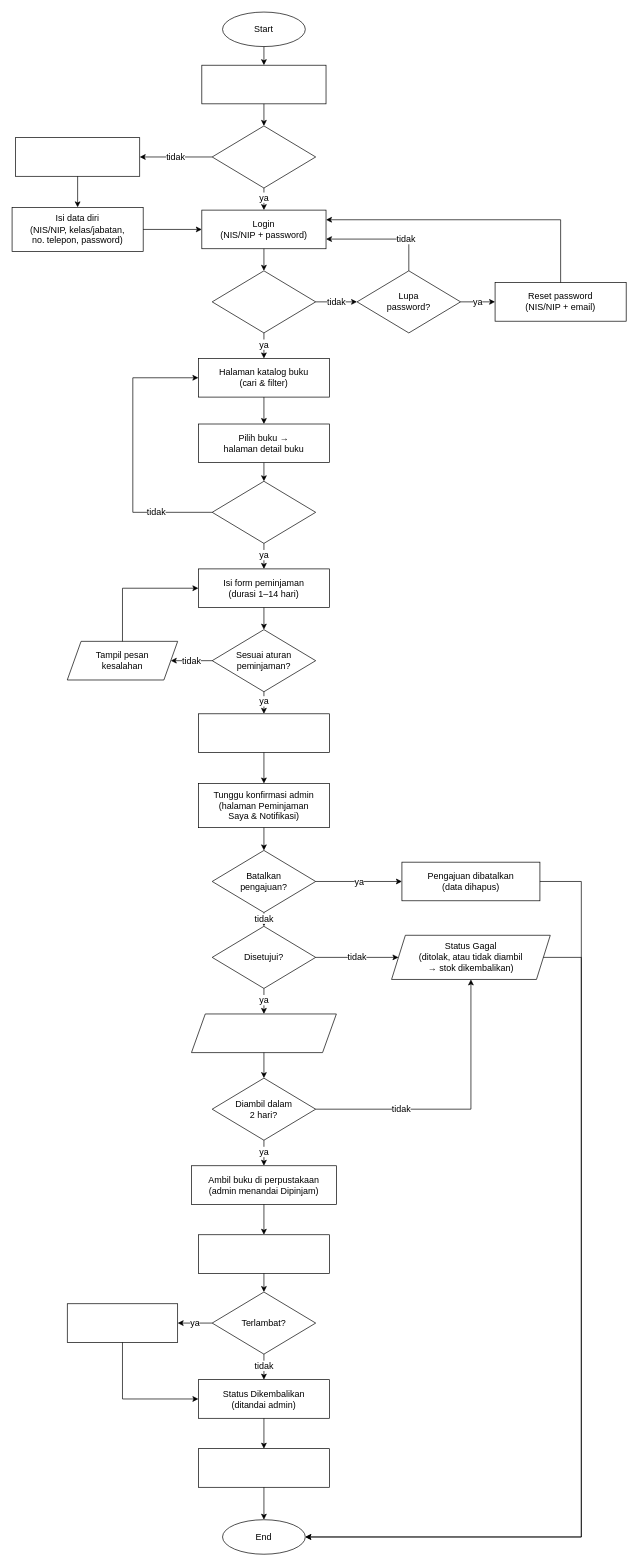
Some shapes in this 638 by 1566 pixel diagram are drawn without their labels. Each missing label, with the centre of its shape:
Bayar denda Rp1.000/hari: (x=122, y=1322)
Berhasil login?: (x=263, y=301)
Beri ulasan & rating (opsional, kapan saja): (x=263, y=1467)
Daftar sebagai Siswa / Tenaga Pendidik: (x=77, y=156)
Halaman perkenalan (landing page): (x=263, y=84)
Kembalikan buku ke perpustakaan: (x=263, y=1253)
Notifikasi: ambil buku maks. 2 hari: (x=263, y=1033)
Pengajuan tersimpan (status Menunggu): (x=263, y=732)
Stok tersedia?: (x=263, y=512)
Sudah punya akun?: (x=263, y=156)
